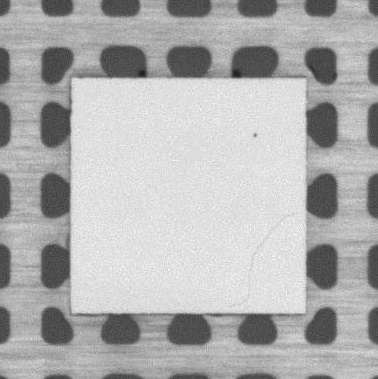DIE_INK: (251, 131, 260, 140)
